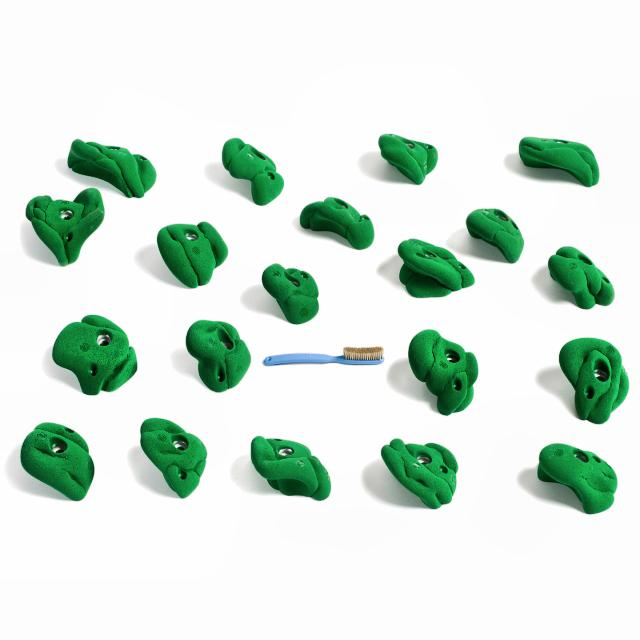Hold: (400, 329, 480, 418), (49, 312, 135, 394), (244, 427, 334, 503), (64, 135, 164, 201), (27, 191, 107, 270), (19, 423, 99, 501), (137, 416, 209, 498), (387, 439, 464, 515), (396, 236, 482, 304), (536, 440, 618, 508), (560, 342, 630, 420), (152, 218, 230, 286), (180, 320, 251, 391), (301, 196, 375, 261), (220, 135, 288, 205), (253, 260, 321, 327), (515, 131, 591, 188), (551, 242, 616, 308), (464, 207, 526, 262), (374, 128, 436, 182)
